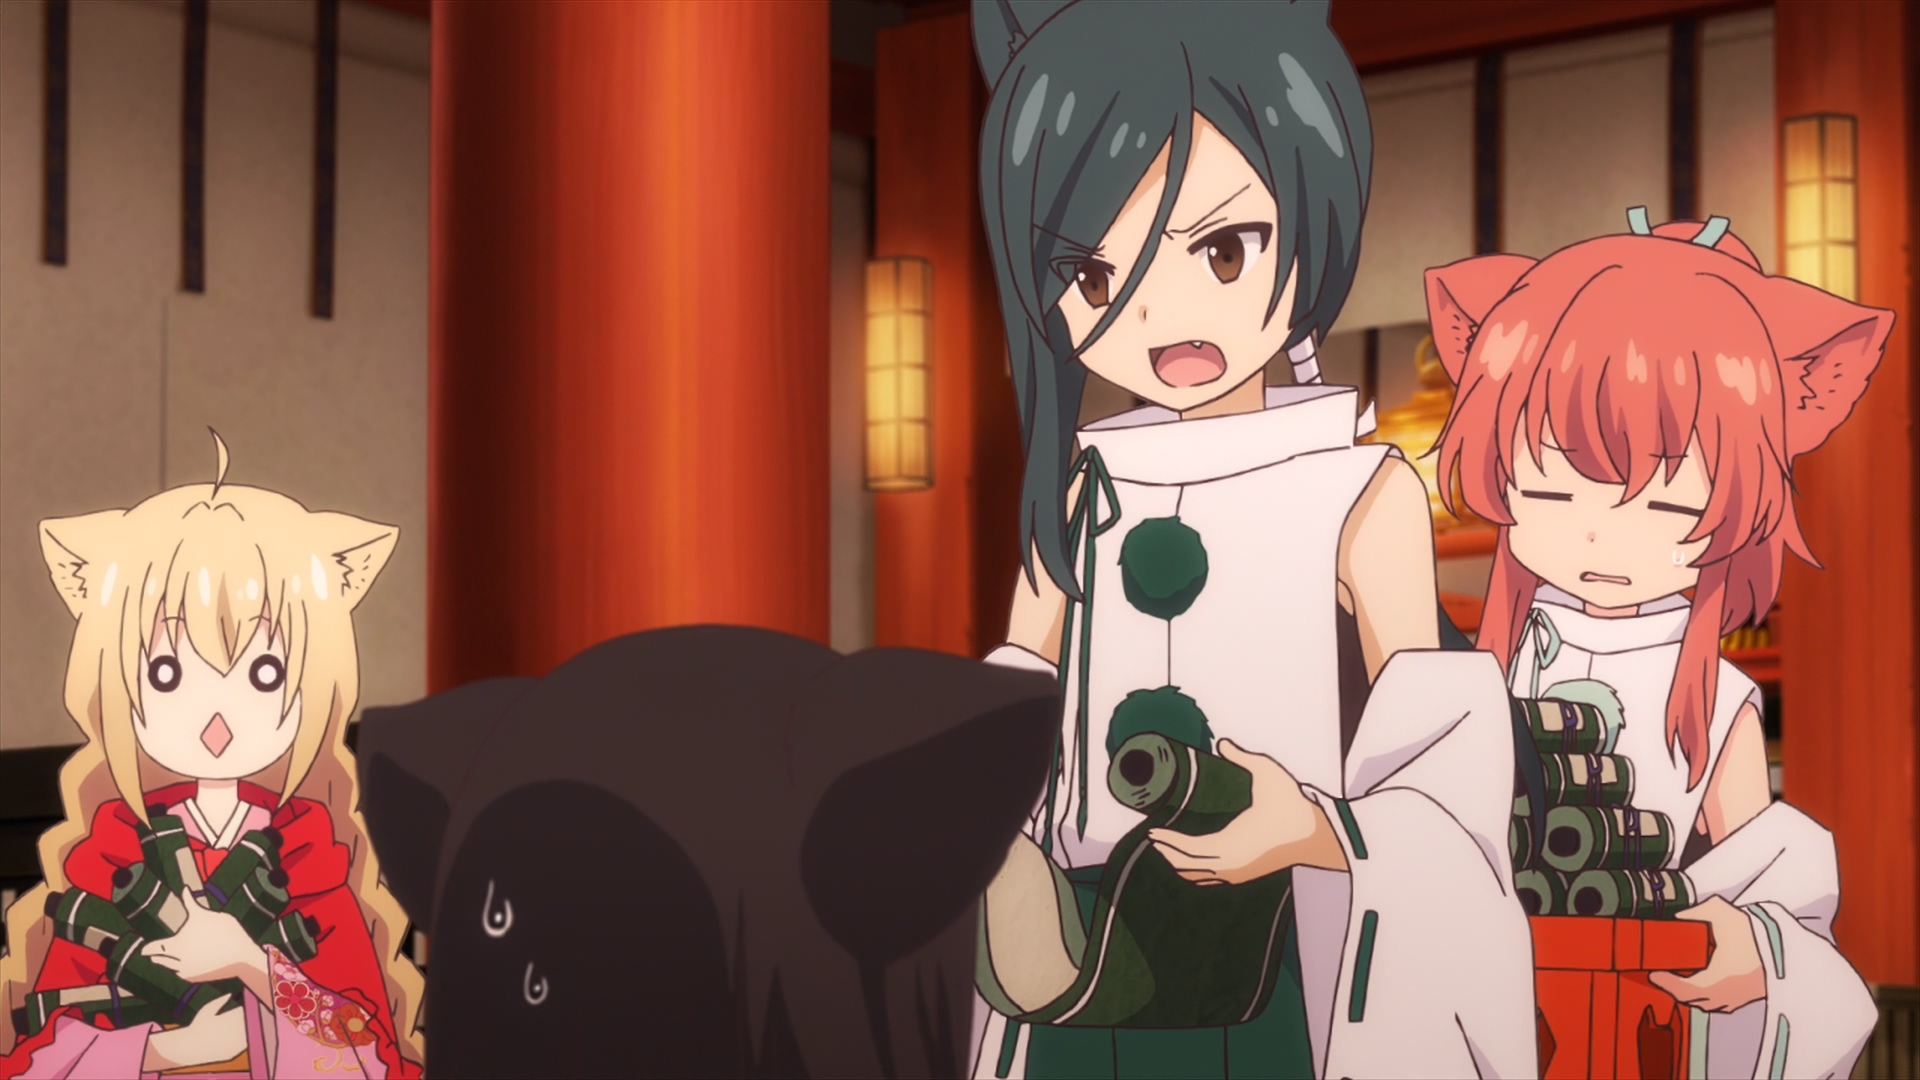其他: (972, 1, 1538, 1080), (360, 624, 1065, 1080)
柚: (1, 427, 426, 1080)
椿: (1416, 208, 1899, 1080)
